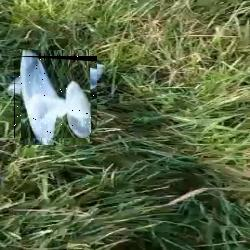plastic: (14, 56, 97, 138)
